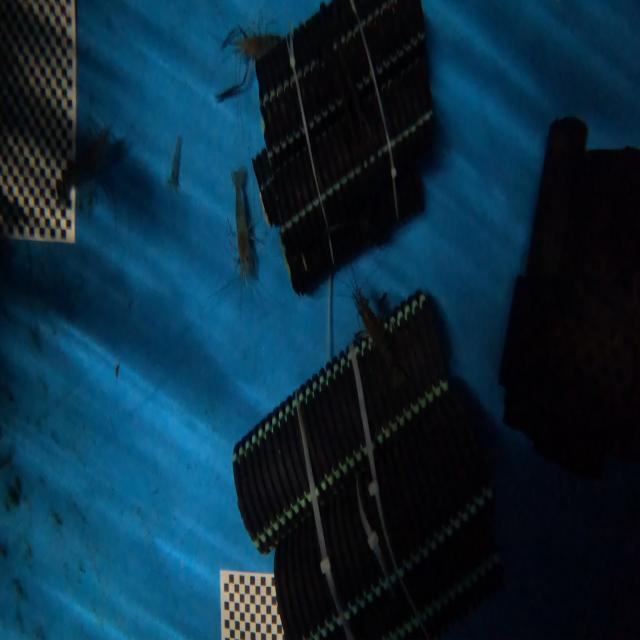prawn: (232, 169, 256, 276), (354, 291, 393, 347), (224, 28, 283, 59), (390, 342, 391, 351)
